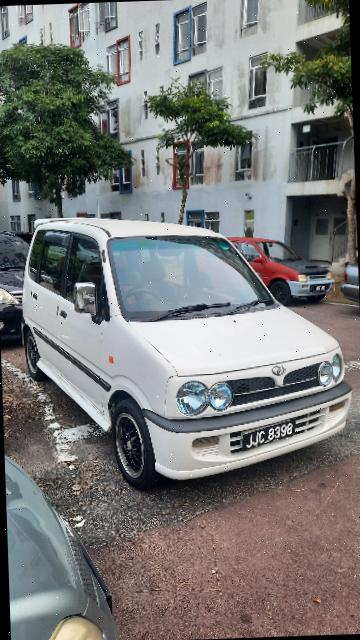License_Plate: (242, 416, 298, 456)
car: (16, 204, 357, 497)
